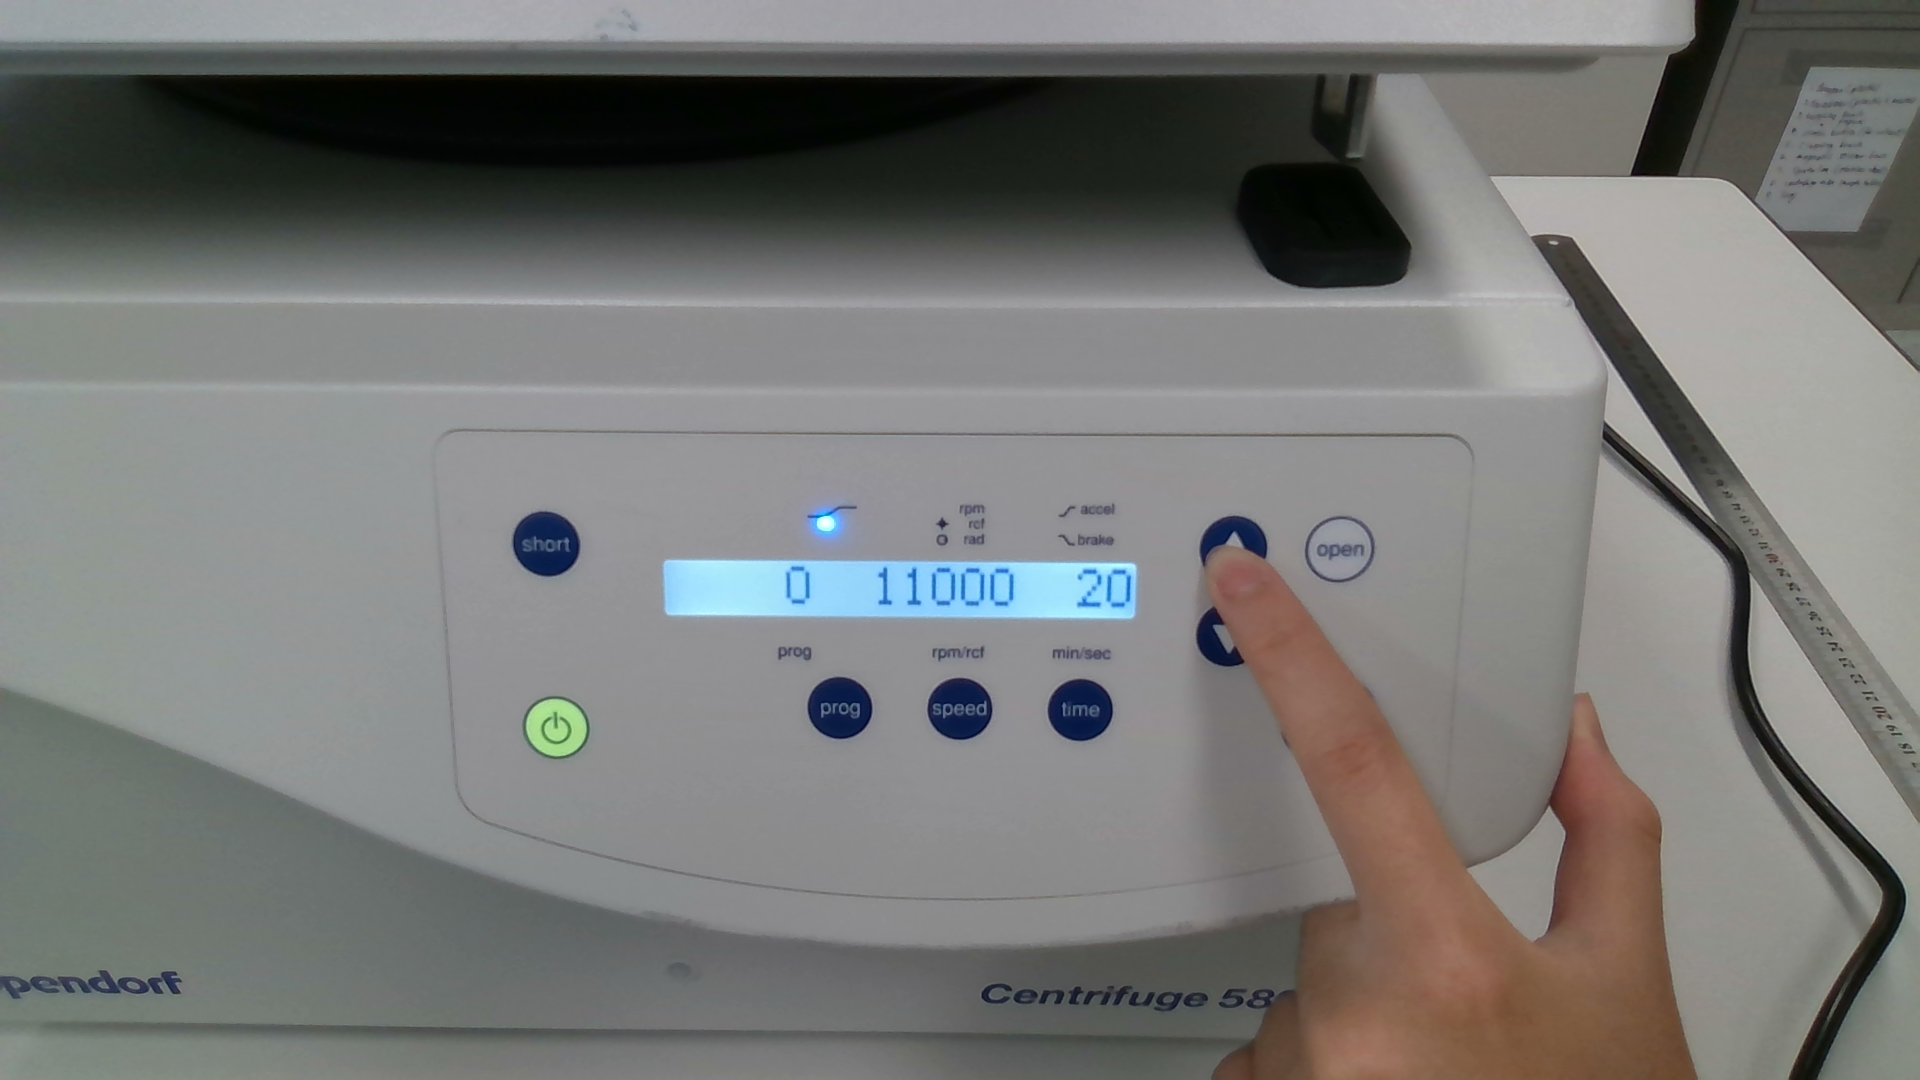0: (786, 566, 811, 605), (931, 567, 956, 607), (1106, 568, 1131, 608), (960, 568, 985, 607), (989, 568, 1014, 607)
1: (902, 567, 927, 607), (873, 566, 898, 605)
2: (1077, 568, 1102, 608)
open_off: (1304, 516, 1375, 584)
power_on: (522, 696, 589, 760)
